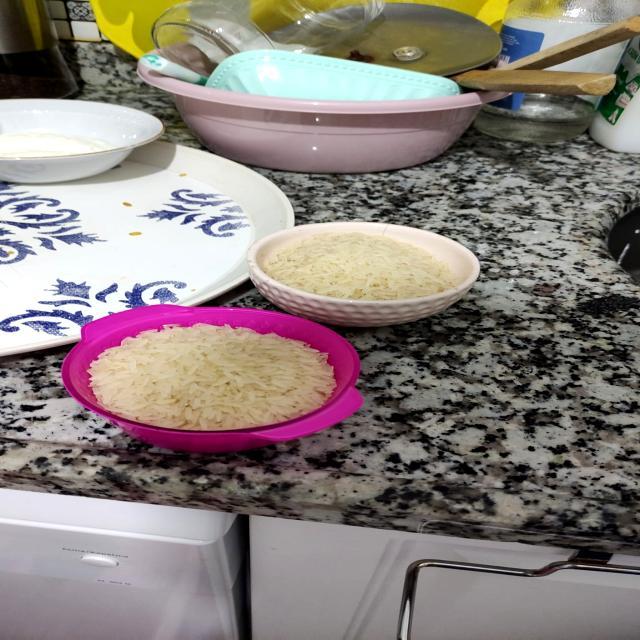rice: (61, 304, 376, 464), (246, 216, 489, 316)
